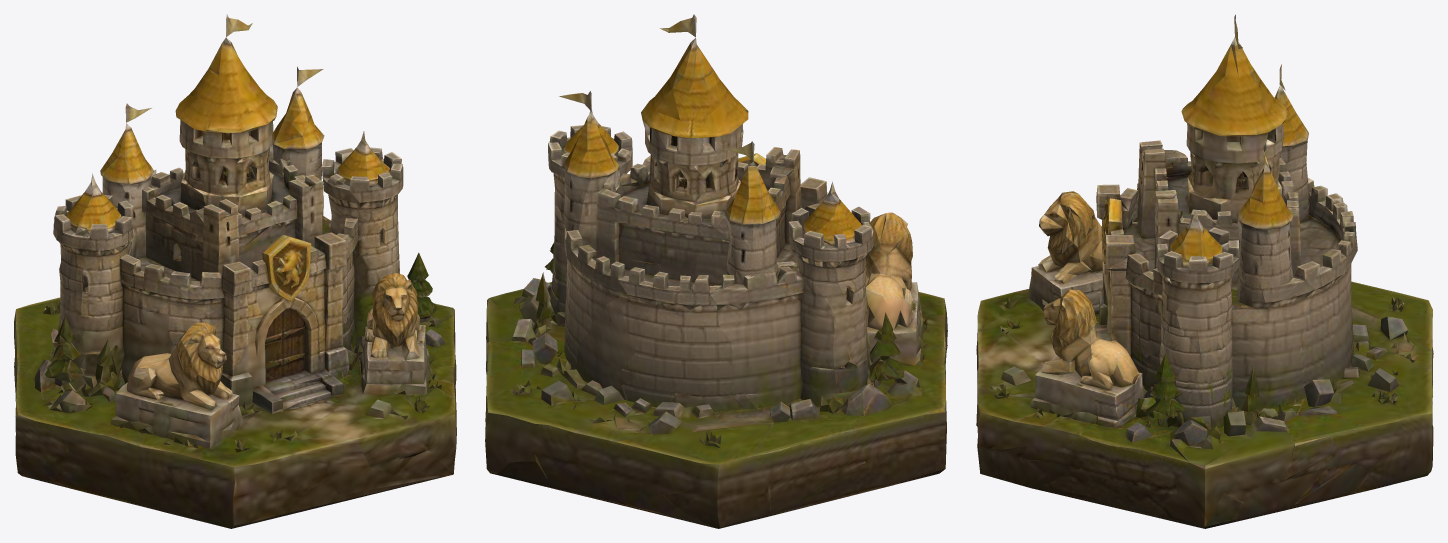
File: home_lions.glb
3 views of the same model, side by side, from view 1: azimuth 30°, elevation 25°; view 2: azimuth 150°, elevation 25°; view 3: azimuth 270°, elevation 25° (orthographic). The views are drawn at different scales.
Bounding box in the file's own units: 2.38 × 2.06 × 2.08.
Materials: 1 (1 with a texture image).
